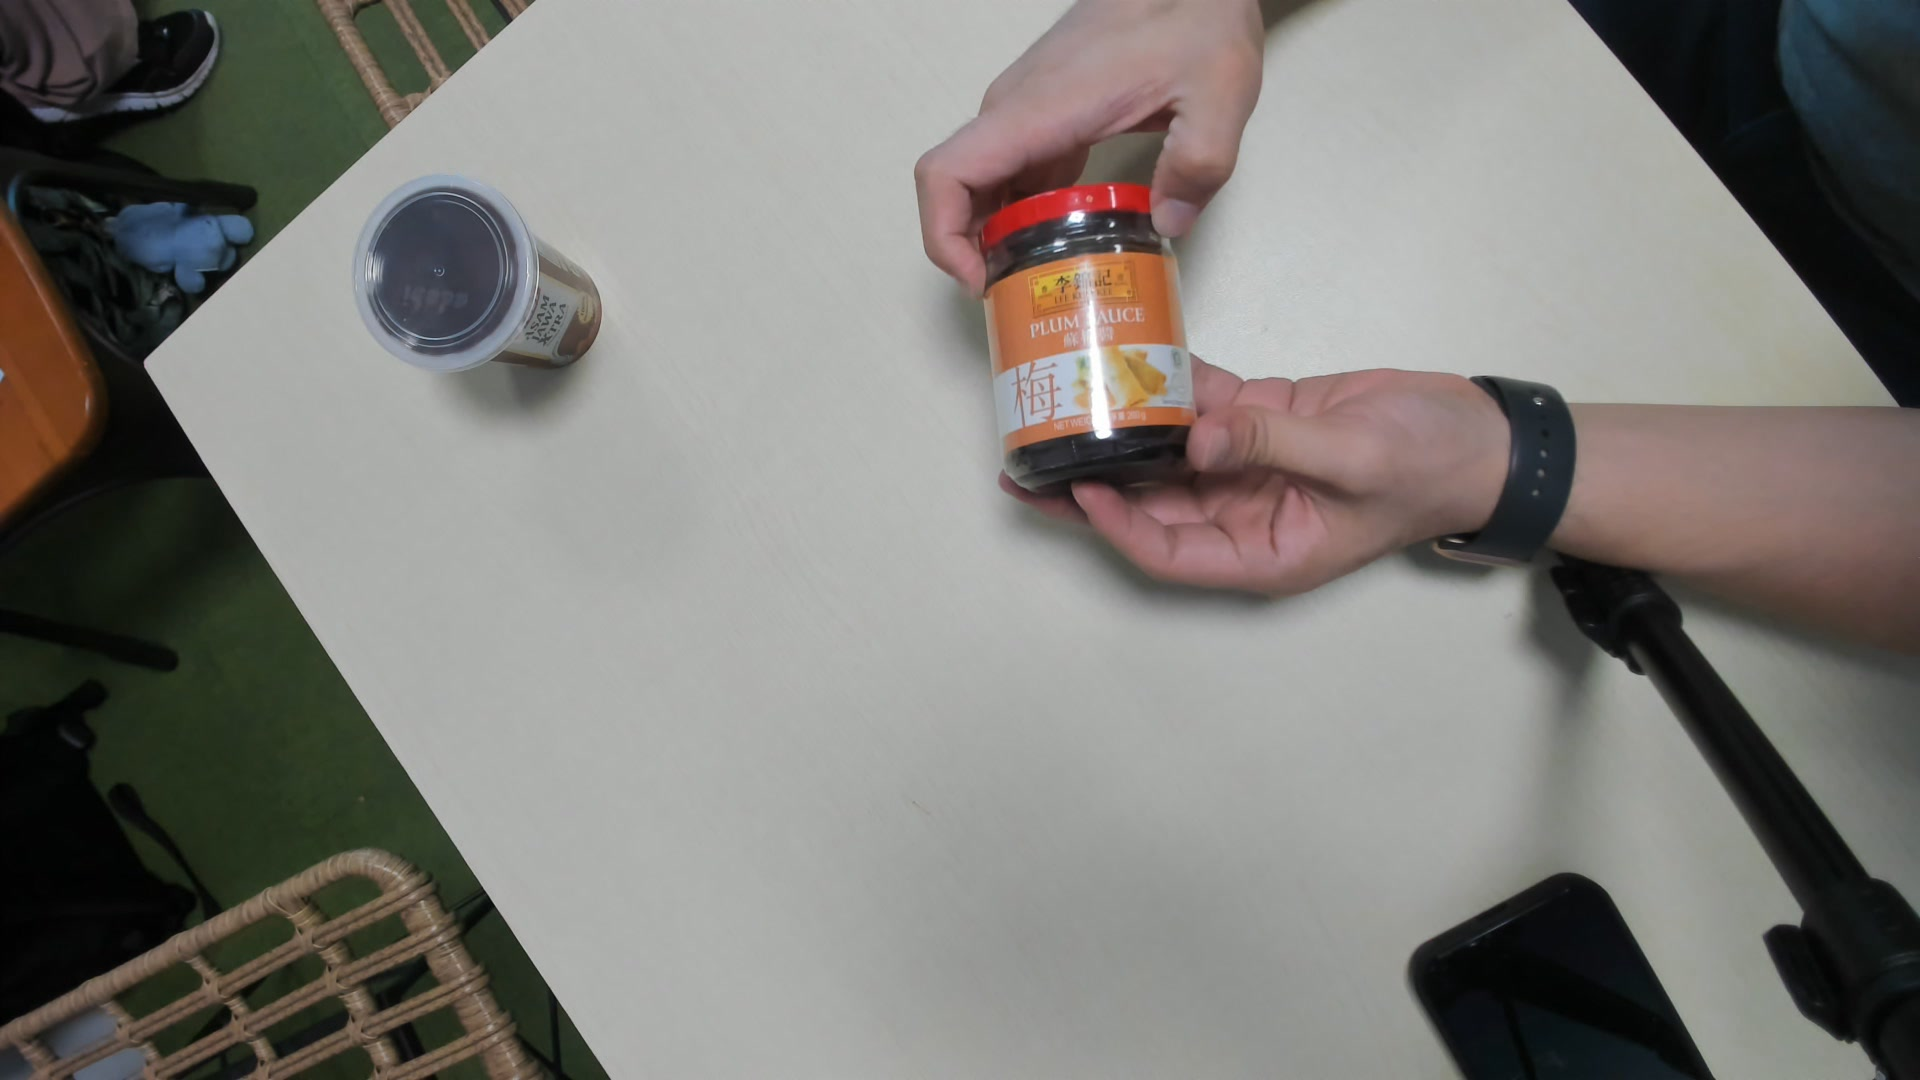OtherSauceDressing_200-299g_Halal_NonHealthy: (982, 183, 1208, 502)
